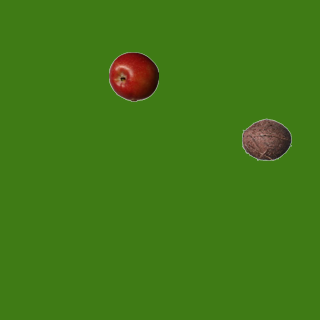Apple Braeburn: (108, 51, 158, 101)
Cocos: (241, 114, 291, 164)
